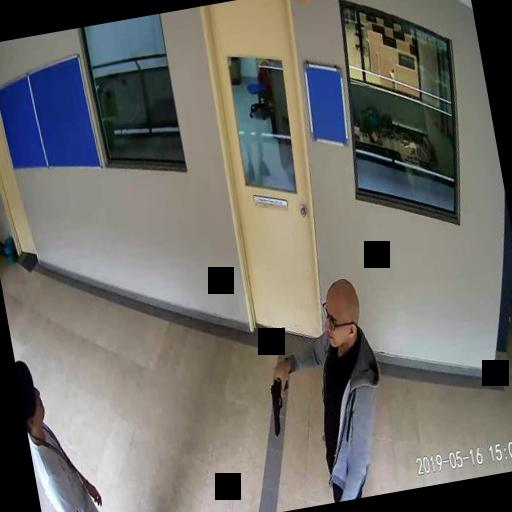Handgun: (263, 372, 294, 434)
